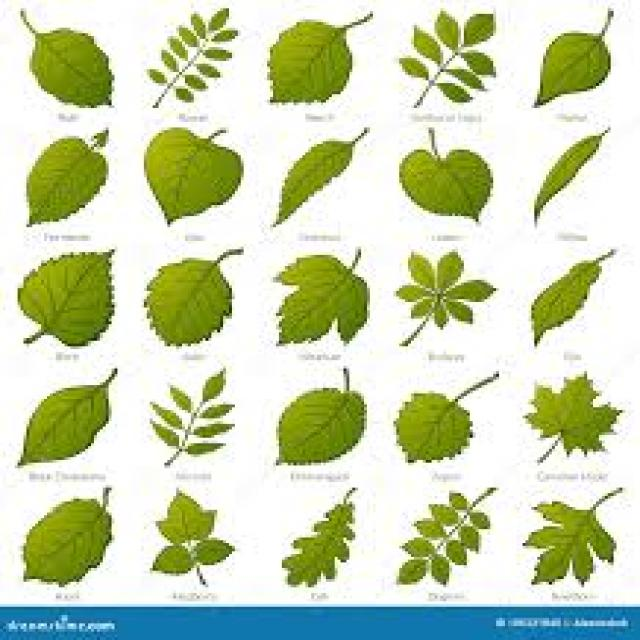leaves: (144, 127, 242, 222), (525, 489, 621, 584), (397, 251, 495, 344), (19, 251, 114, 346), (400, 11, 495, 106), (401, 487, 493, 584), (24, 369, 116, 464), (148, 9, 237, 107), (272, 14, 370, 102), (279, 129, 368, 223), (23, 14, 111, 107), (151, 370, 233, 466), (279, 251, 364, 343), (526, 374, 621, 453), (534, 251, 613, 344), (25, 499, 111, 584), (152, 493, 233, 583), (147, 260, 230, 345), (282, 489, 354, 586), (534, 130, 606, 222), (28, 139, 106, 223), (400, 150, 493, 219), (279, 390, 366, 463), (395, 394, 469, 461), (538, 33, 605, 106)
